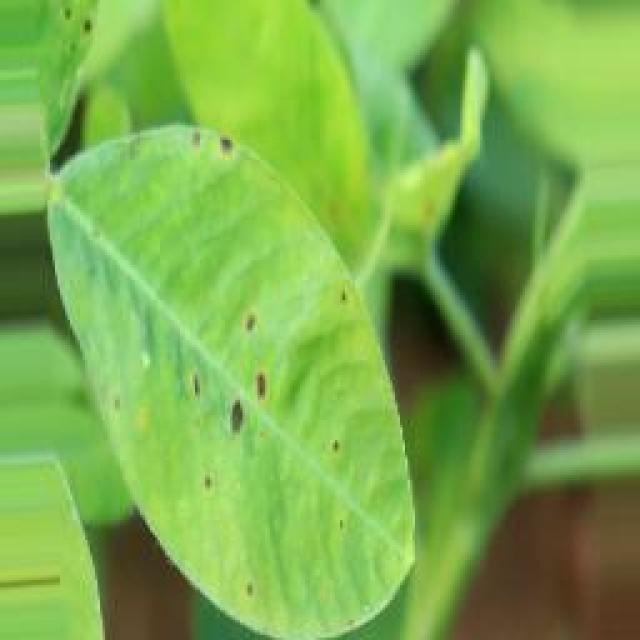Sigatoka: (156, 292, 286, 437), (189, 112, 267, 203), (48, 0, 119, 74), (310, 443, 352, 536), (218, 551, 283, 608), (319, 269, 360, 341), (182, 451, 233, 504)
